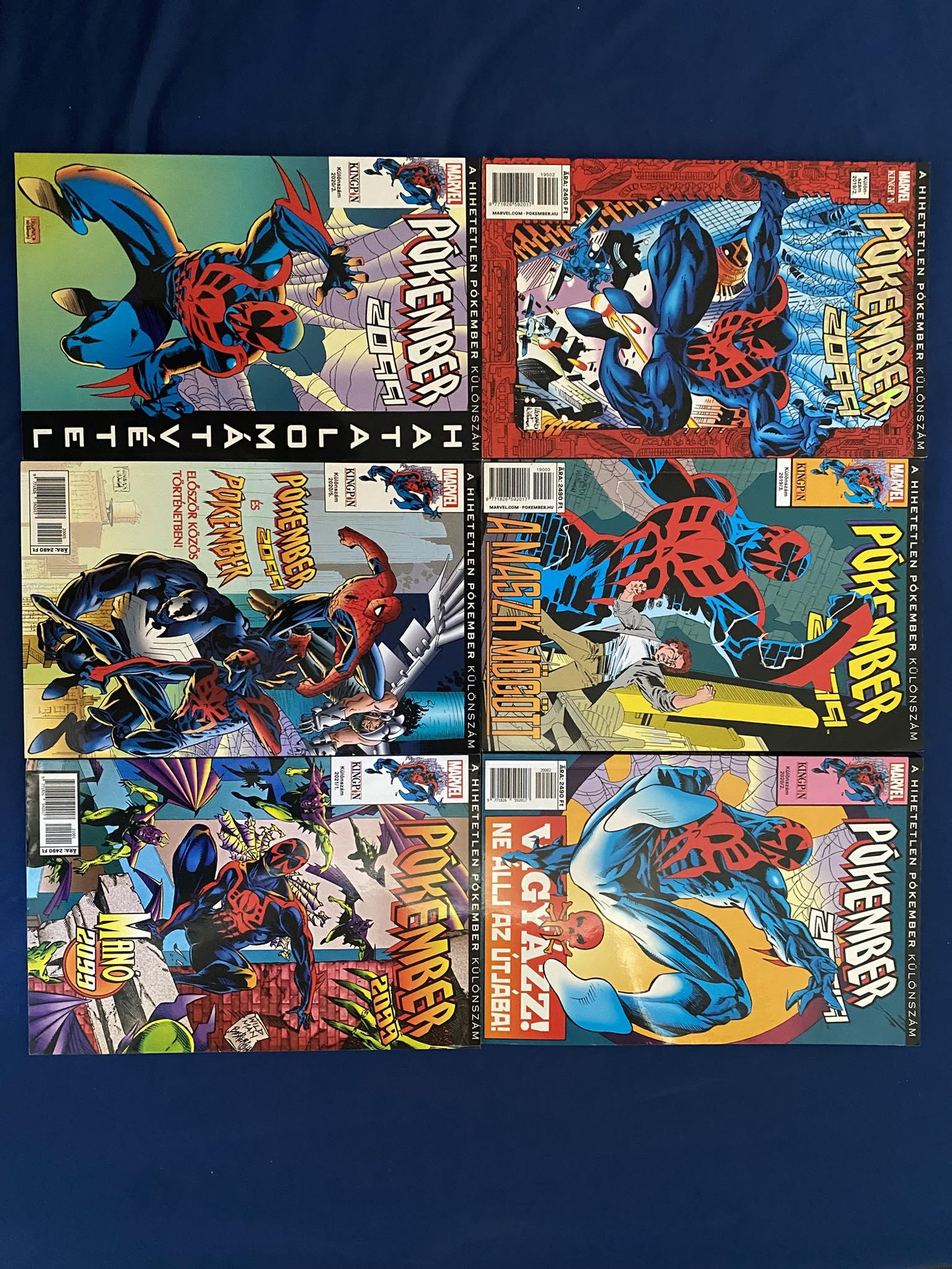comic: (15, 153, 480, 462), (25, 753, 481, 1055), (21, 460, 479, 760), (482, 158, 927, 459), (483, 458, 919, 754), (484, 753, 920, 1044)
